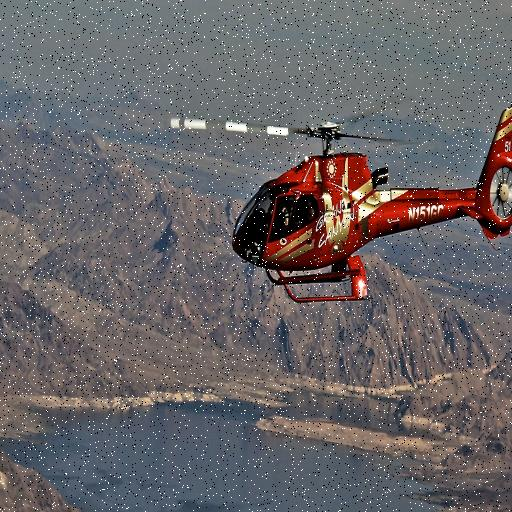helicopter: (165, 94, 512, 314)
